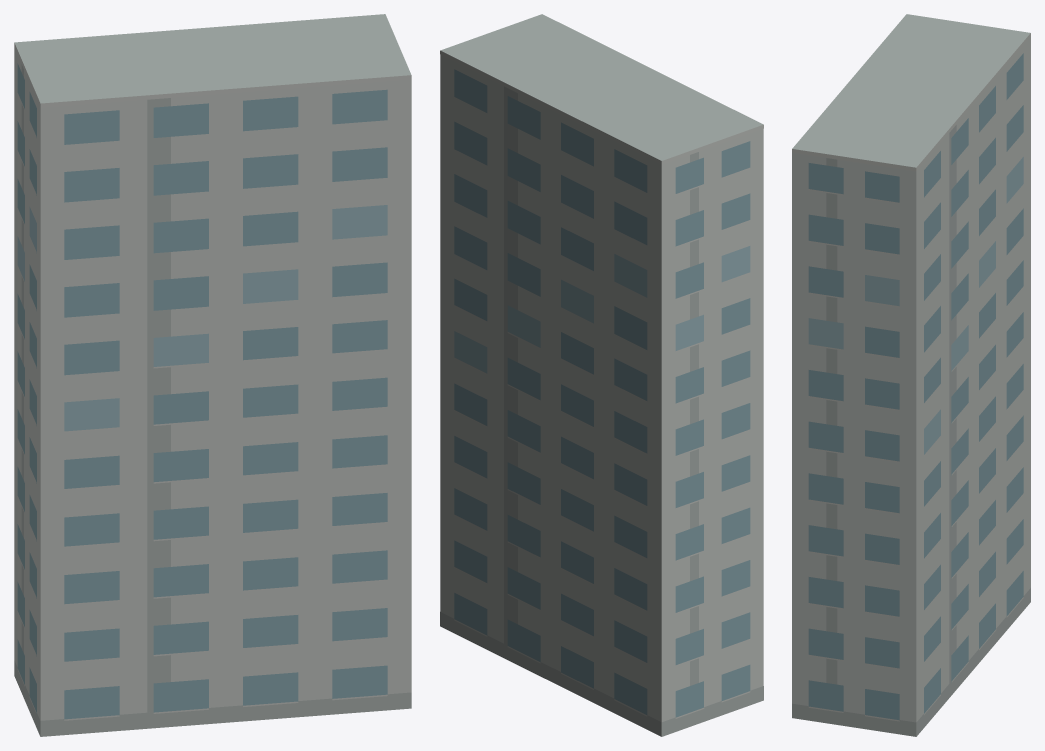
The model's file is residential-4d39efef-c42b-4f1b-af45-562ce140d710.glb.
The picture shows the model from 3 angles, left to right: view 1: azimuth 30°, elevation 25°; view 2: azimuth 150°, elevation 25°; view 3: azimuth 270°, elevation 25°; orthographic projection. The views are drawn at different scales.
Parts seen in each view (by area): view 1: residential-4d39efef-c42b-4f1b-af45-562ce140d710.tmp; view 2: residential-4d39efef-c42b-4f1b-af45-562ce140d710.tmp; view 3: residential-4d39efef-c42b-4f1b-af45-562ce140d710.tmp.
Part boxes in pixels (bbox=[...]): residential-4d39efef-c42b-4f1b-af45-562ce140d710.tmp: bbox=[14, 14, 411, 736]; residential-4d39efef-c42b-4f1b-af45-562ce140d710.tmp: bbox=[440, 14, 763, 736]; residential-4d39efef-c42b-4f1b-af45-562ce140d710.tmp: bbox=[792, 14, 1030, 736].
Size of the model in its own units: 20.28 by 35 by 13.31.
